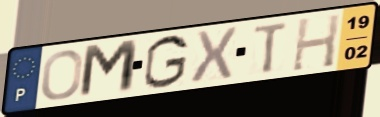G: (141, 33, 191, 91)
H: (289, 12, 343, 74)
M: (76, 37, 141, 101)
O: (39, 48, 86, 102)
T: (252, 20, 291, 76)
X: (188, 26, 240, 87)
